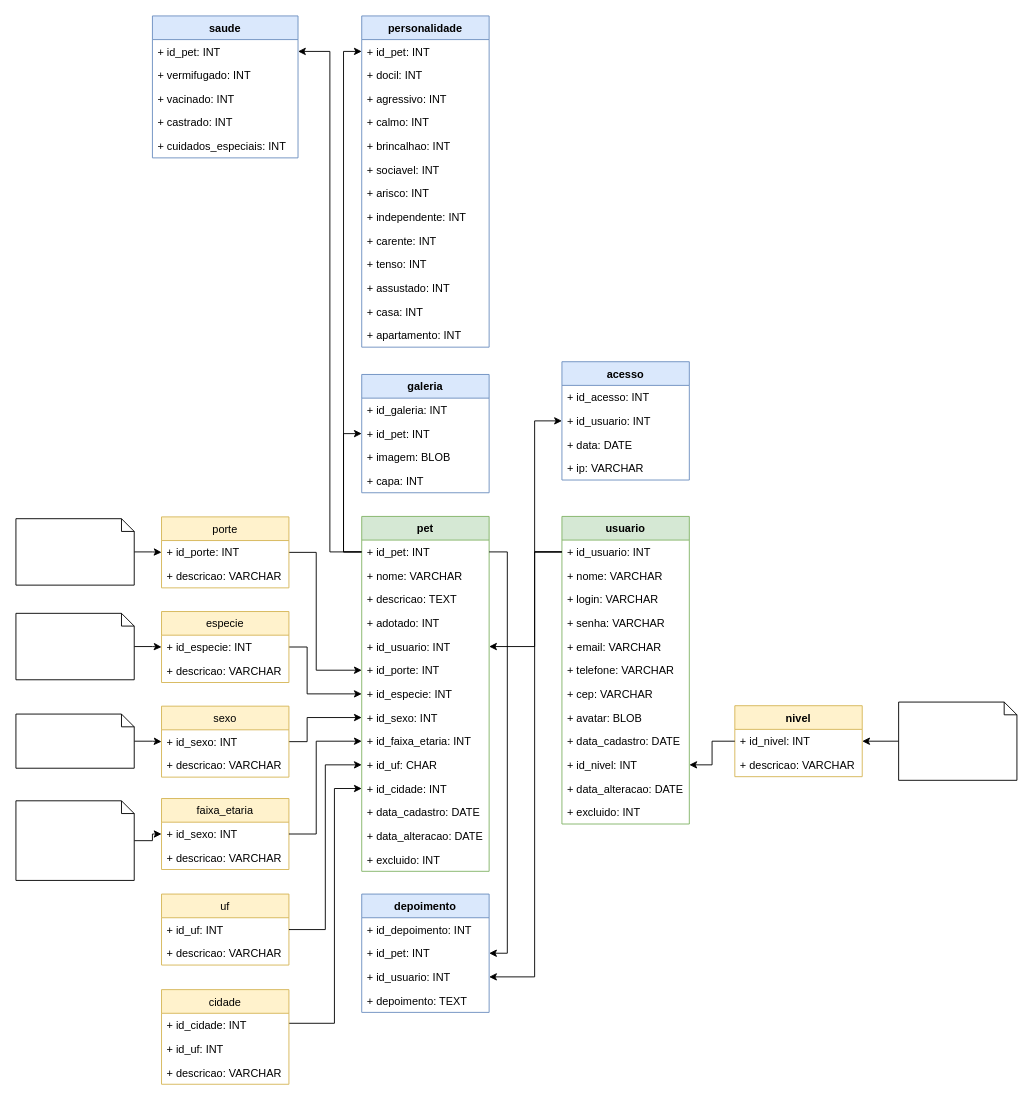
The diagram is 1033 pixels wide and 1103 high, and some of its shapes have lost their labels. The shapes that lost their labels are listed below. From the top down, each one's centre as x and y in pixels, then its label:
At point (74, 551): "1 - Pequeno 2 - Médio 3 - Grande".
At point (74, 646): "1 - Cachorro 2 - Gato 3 - Outro".
At point (74, 740): "1 - Macho 2 - Fêmea".
At point (957, 740): "1 - Administrador 2 - Pessoa Física 3 - ONG 4 - Veterinário".
At point (74, 840): "1 - Filhote 2 - Jovem 3 - Adulto 4 - Idoso".
